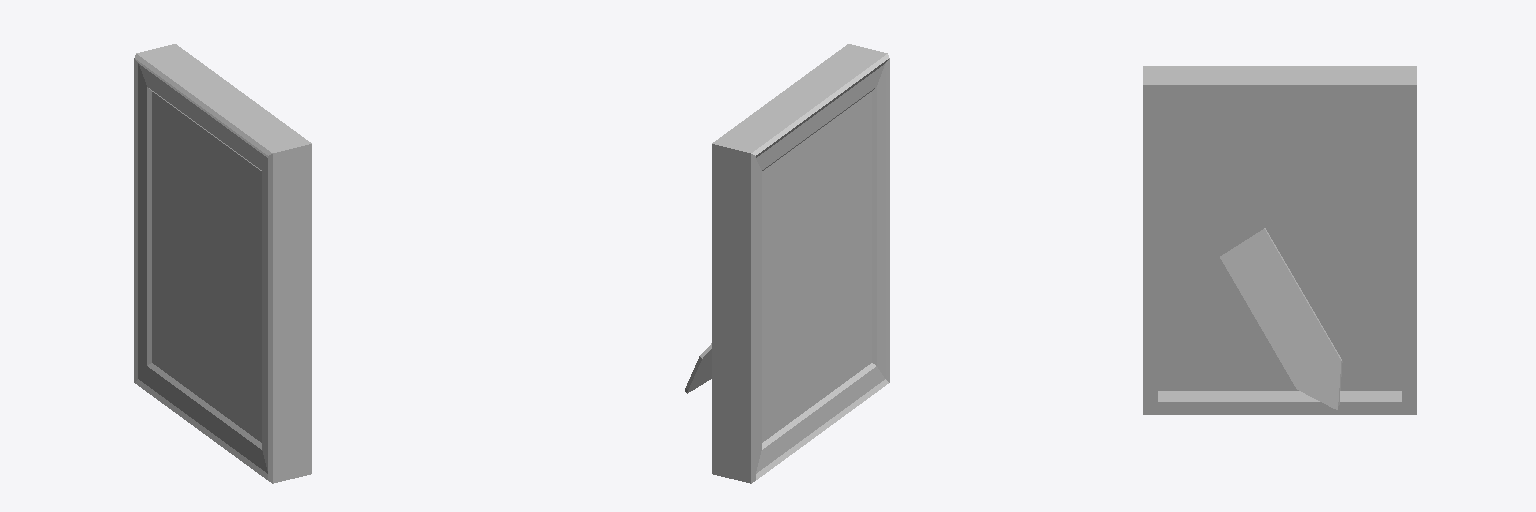
File: Ikea Frame.obj
3 renders of one model, left to right at view 1: azimuth 30°, elevation 25°; view 2: azimuth 150°, elevation 25°; view 3: azimuth 270°, elevation 25°, orthographic.
Visible parts, largest first — view 1: Frame, Glass; view 2: Frame, Glass, Back2; view 3: Back, Frame, Back2.
Part boxes in pixels (x1,y1,x2,y2): Frame: (134,44,311,483); Glass: (152,92,261,442); Frame: (712,44,889,483); Glass: (762,92,871,442); Back2: (685,343,711,393); Back: (1158,99,1401,390); Frame: (1143,66,1416,414); Back2: (1220,228,1342,409).
Size of the model in its own units: 8.34 by 24 by 18.